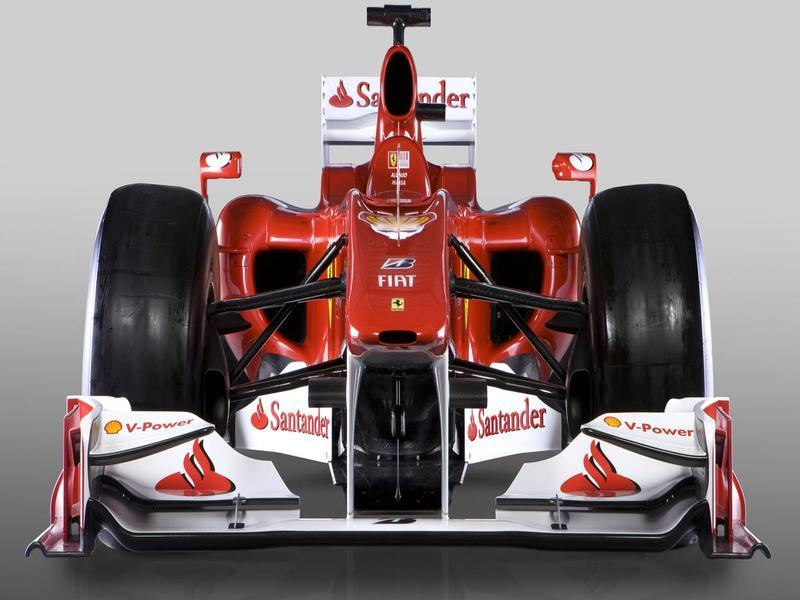f1: (78, 28, 772, 570)
